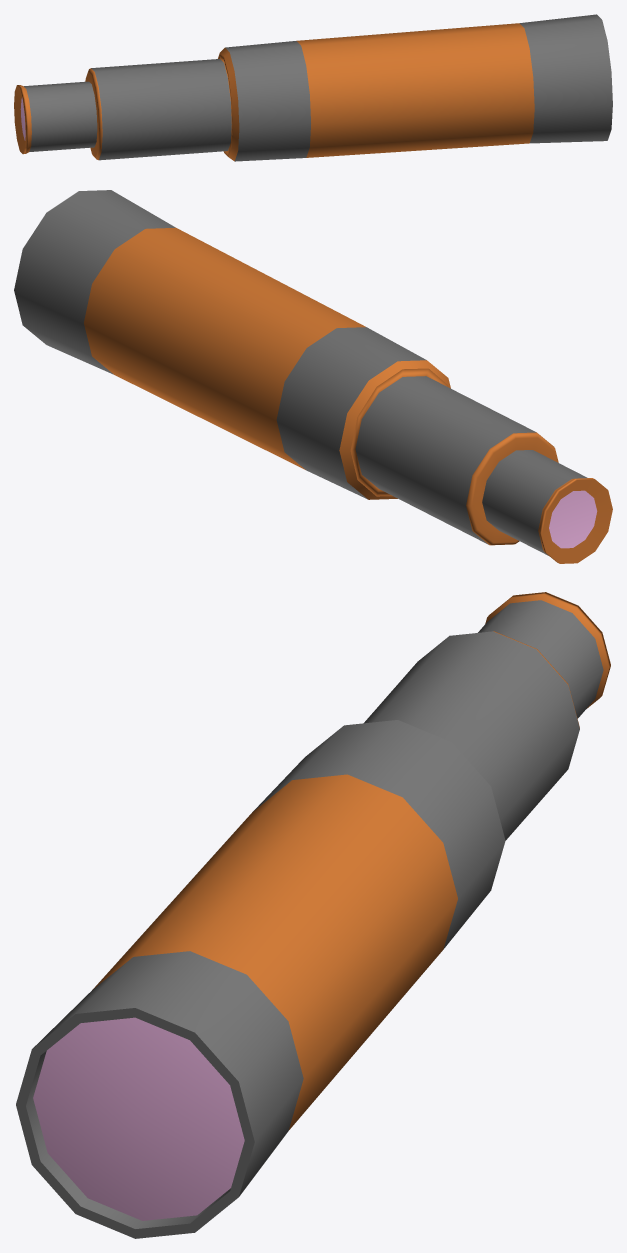
Rendered from Telescopio.fbx.
The picture shows the model from 3 angles, top to bottom: view 1: azimuth 30°, elevation 25°; view 2: azimuth 150°, elevation 25°; view 3: azimuth 270°, elevation 25°; orthographic projection. The views are drawn at different scales.
Parts seen in each view (by area): view 1: TElescópio Export; view 2: TElescópio Export; view 3: TElescópio Export.
Boxes of the visible parts, x1,y1,x2,y2 form: TElescópio Export: (14,14,612,161); TElescópio Export: (14,190,612,563); TElescópio Export: (16,592,610,1238).
Bounding box in the file's own units: 36.83 × 7.98 × 18.64.
